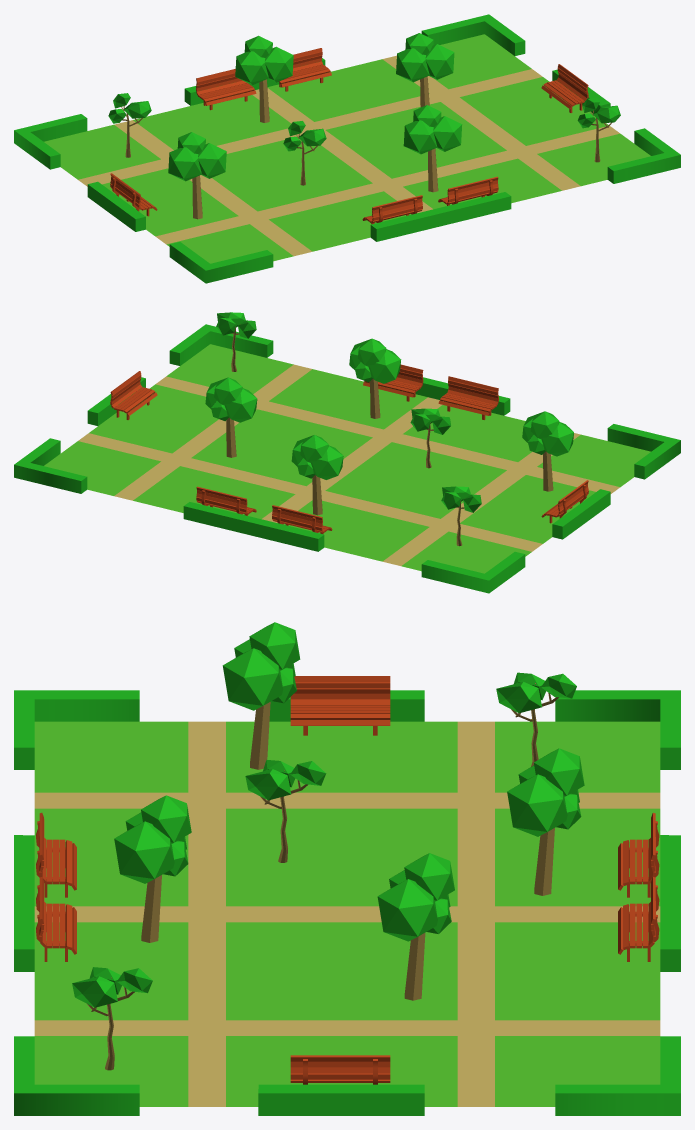
The model's file is park_aligned.fbx.
3 renders of one model, top to bottom at view 1: azimuth 30°, elevation 25°; view 2: azimuth 150°, elevation 25°; view 3: azimuth 270°, elevation 25°, orthographic. The views are drawn at different scales.
Parts seen in each view (by area): view 1: Plane004.001, Plane005.001, Box001.001, Cylinder.001, Box005.001, Box006.001, Box004.001, Box002.001, Box003.001, Box007.001; view 2: Plane004.001, Plane005.001, Box001.001, Cylinder.001, Box003.001, Box006.001, Box002.001, Box004.001, Box005.001, Box007.001; view 3: Plane004.001, Plane005.001, Box001.001, Cylinder.001, Box007.001, Box006.001, Box002.001, Box003.001, Box004.001, Box005.001.
Boxes of the visible parts, box(x1,y1,x2,y2) form: Plane004.001: box(44, 34, 650, 263); Plane005.001: box(78, 55, 619, 256); Box001.001: box(14, 14, 680, 283); Cylinder.001: box(108, 33, 620, 219); Box005.001: box(196, 69, 256, 110); Box006.001: box(541, 64, 588, 112); Box004.001: box(279, 48, 331, 91); Box002.001: box(438, 176, 498, 205); Box003.001: box(362, 195, 422, 224); Box007.001: box(110, 173, 157, 216); Plane004.001: box(44, 344, 650, 573); Plane005.001: box(78, 364, 619, 565); Box001.001: box(14, 324, 680, 593); Cylinder.001: box(205, 312, 573, 546); Box003.001: box(438, 376, 498, 419); Box006.001: box(110, 371, 157, 419); Box002.001: box(363, 364, 423, 401); Box004.001: box(196, 486, 256, 515); Box005.001: box(272, 505, 332, 534); Box007.001: box(541, 480, 588, 523); Plane004.001: box(34, 721, 660, 1106); Plane005.001: box(34, 721, 660, 1106); Box001.001: box(14, 690, 680, 1115); Cylinder.001: box(72, 622, 584, 1070); Box007.001: box(290, 676, 390, 735); Box006.001: box(290, 1055, 390, 1084); Box002.001: box(36, 877, 76, 961); Box003.001: box(36, 812, 76, 897); Box004.001: box(618, 877, 659, 961); Box005.001: box(618, 812, 659, 897).
Bounding box in the file's own units: 10855 × 1819 × 7595.
